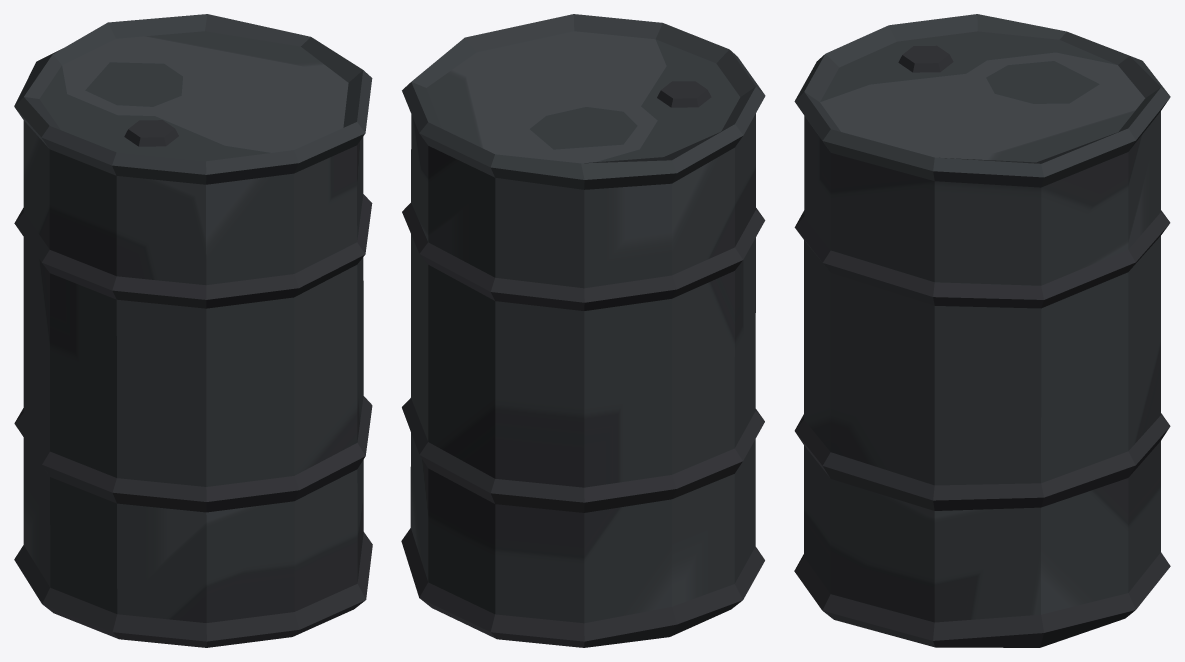
File: samurai_SM_Gen_Prop_Barrel_Metal_03.gltf
3 renders of one model, left to right at view 1: azimuth 30°, elevation 25°; view 2: azimuth 150°, elevation 25°; view 3: azimuth 270°, elevation 25°, orthographic.
Parts seen in each view (by area): view 1: SM_Gen_Prop_Barrel_Metal_03; view 2: SM_Gen_Prop_Barrel_Metal_03; view 3: SM_Gen_Prop_Barrel_Metal_03.
Part boxes in pixels (<box>): SM_Gen_Prop_Barrel_Metal_03: <box>14,14,372,647</box>; SM_Gen_Prop_Barrel_Metal_03: <box>401,14,765,647</box>; SM_Gen_Prop_Barrel_Metal_03: <box>794,14,1170,647</box>.
Size of the model in its own units: 0.6949 by 1.05 by 0.7261.
Materials: 1 (1 with a texture image).
